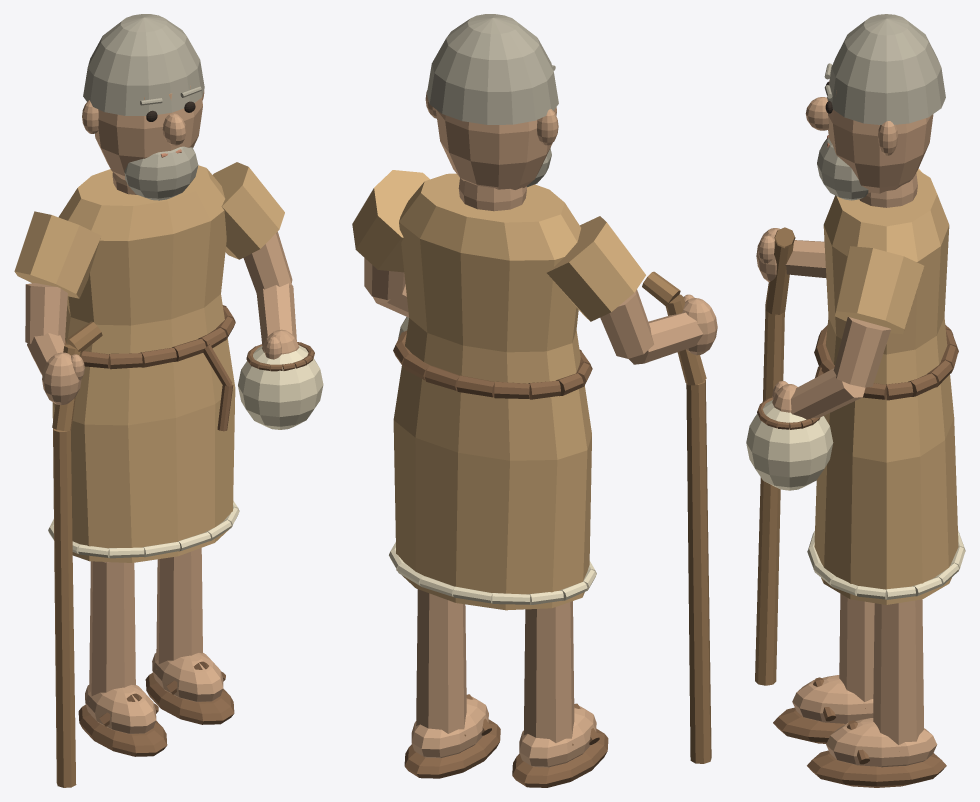
The picture shows the model from 3 angles, left to right: view 1: azimuth 30°, elevation 25°; view 2: azimuth 150°, elevation 25°; view 3: azimuth 270°, elevation 25°; orthographic projection. The views are drawn at different scales.
Parts seen in each view (by area): view 1: BA-0089 Older market regular batched; view 2: BA-0089 Older market regular batched; view 3: BA-0089 Older market regular batched.
Boxes of the visible parts, box(x1,y1,x2,y2) form: BA-0089 Older market regular batched: box(14, 14, 323, 787); BA-0089 Older market regular batched: box(352, 14, 717, 787); BA-0089 Older market regular batched: box(746, 14, 965, 787).
Bounding box in the file's own units: 0.6664 × 1.57 × 0.4221.
